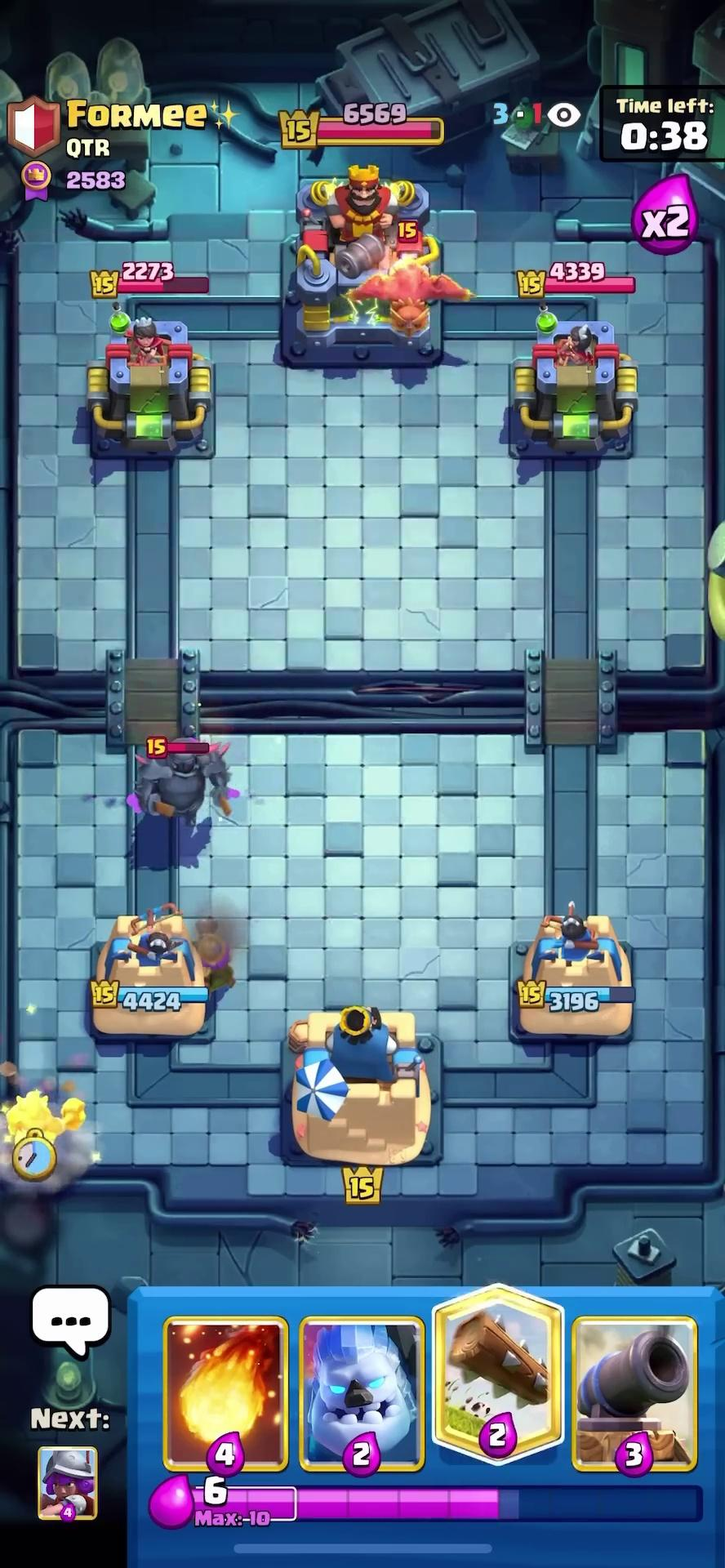hog_rider: (0, 1056, 88, 1174)
musketeer: (173, 890, 259, 1000)
